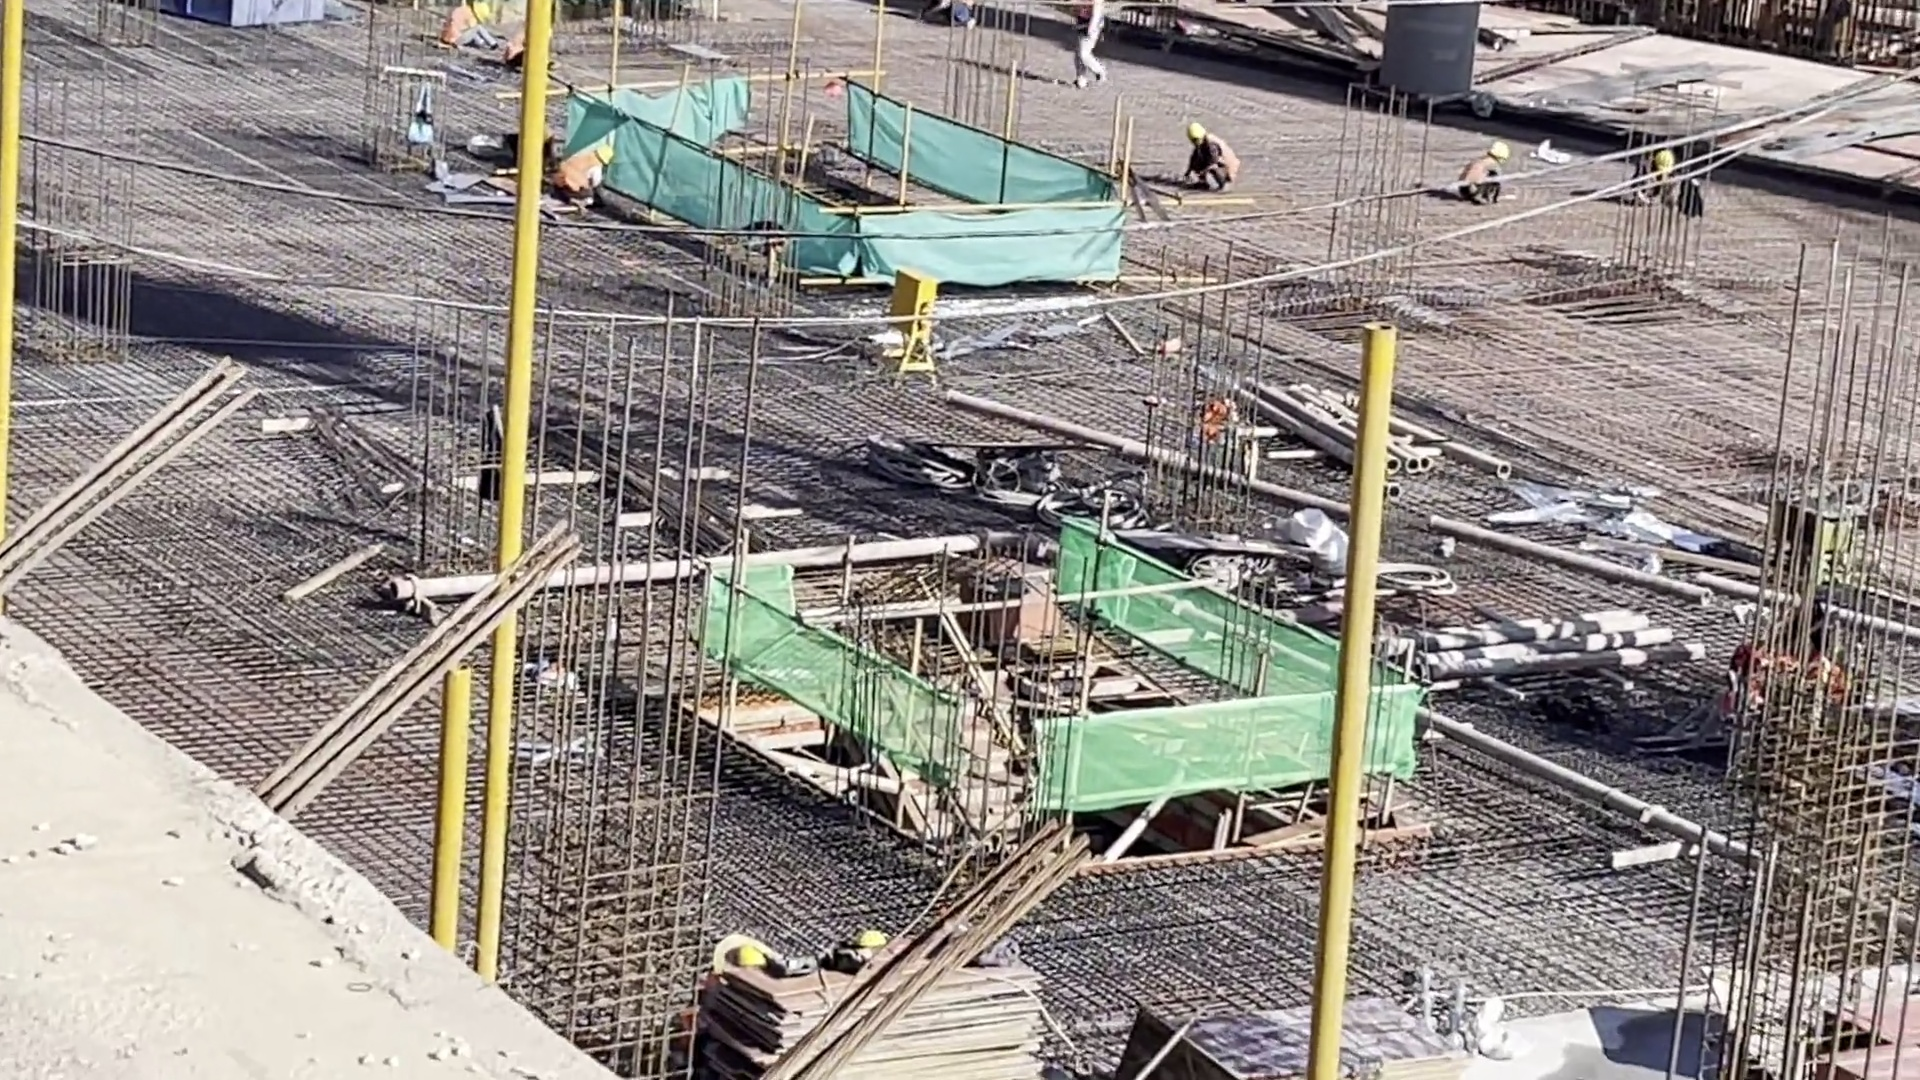helmet: (1655, 150, 1673, 174), (596, 144, 615, 165), (1187, 123, 1207, 140), (1489, 143, 1508, 160), (473, 4, 489, 24)
person: (1183, 127, 1242, 195), (1066, 1, 1112, 88), (556, 145, 612, 207), (1466, 142, 1509, 204), (444, 3, 488, 41)
vest: (558, 150, 604, 195), (1209, 135, 1238, 184), (448, 6, 471, 35)
